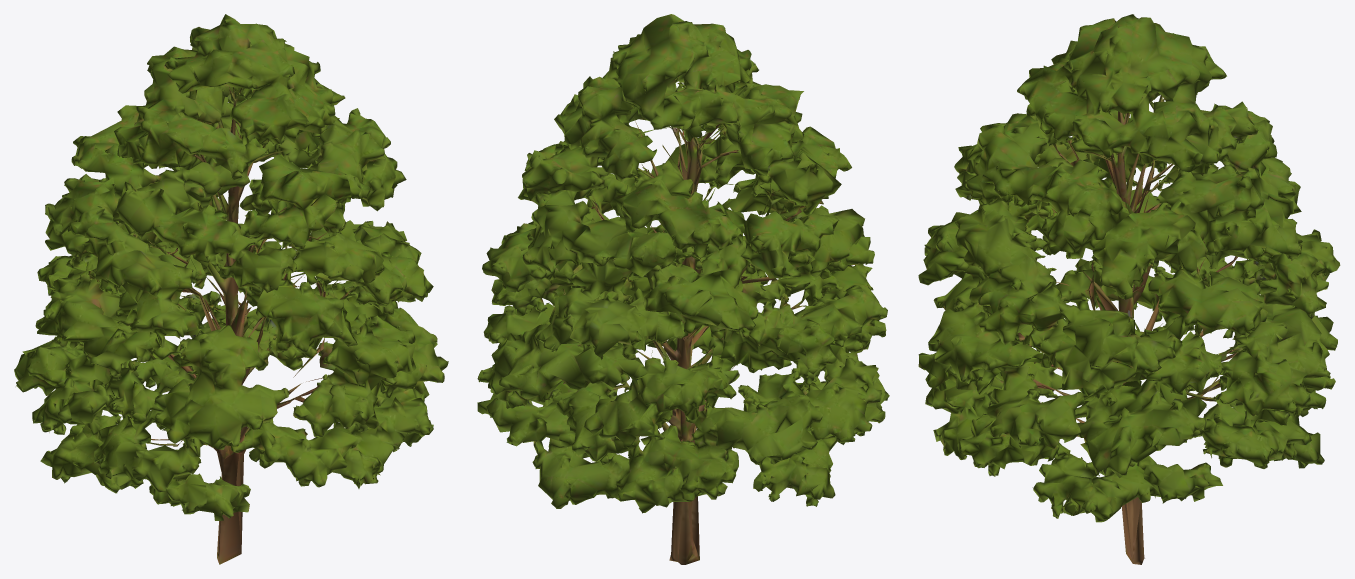
Rendered from lib_tp_degai.near.glb.
3 renders of one model, left to right at view 1: azimuth 30°, elevation 25°; view 2: azimuth 150°, elevation 25°; view 3: azimuth 270°, elevation 25°, orthographic.
Size of the model in its own units: 1.46 by 1.99 by 1.4.
1 material, 1 textured.
